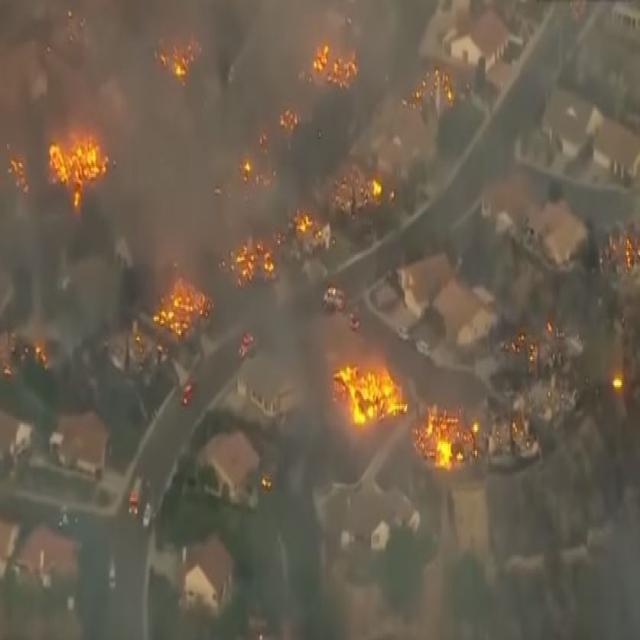Fire: (1, 128, 108, 217), (141, 260, 212, 333), (336, 354, 406, 424), (414, 404, 477, 468), (332, 154, 385, 212), (154, 32, 202, 84), (226, 236, 274, 283), (313, 40, 358, 87), (292, 206, 314, 236), (68, 192, 82, 220), (444, 83, 454, 112), (44, 354, 52, 384), (264, 476, 274, 499), (613, 374, 624, 390), (162, 52, 168, 81), (546, 320, 554, 338), (8, 152, 15, 172), (278, 114, 284, 135), (528, 346, 534, 366), (22, 140, 26, 168), (416, 88, 422, 106), (261, 476, 266, 497), (513, 335, 518, 353), (37, 344, 39, 364), (424, 71, 427, 81)
